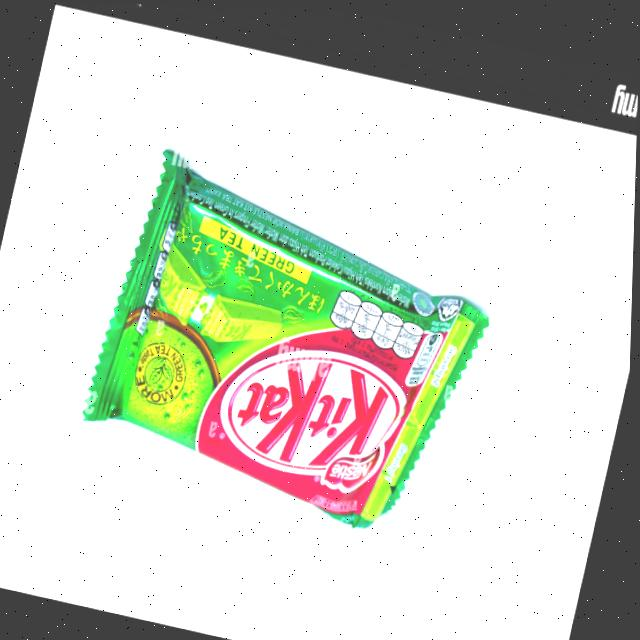kitkat: (67, 137, 505, 551)
